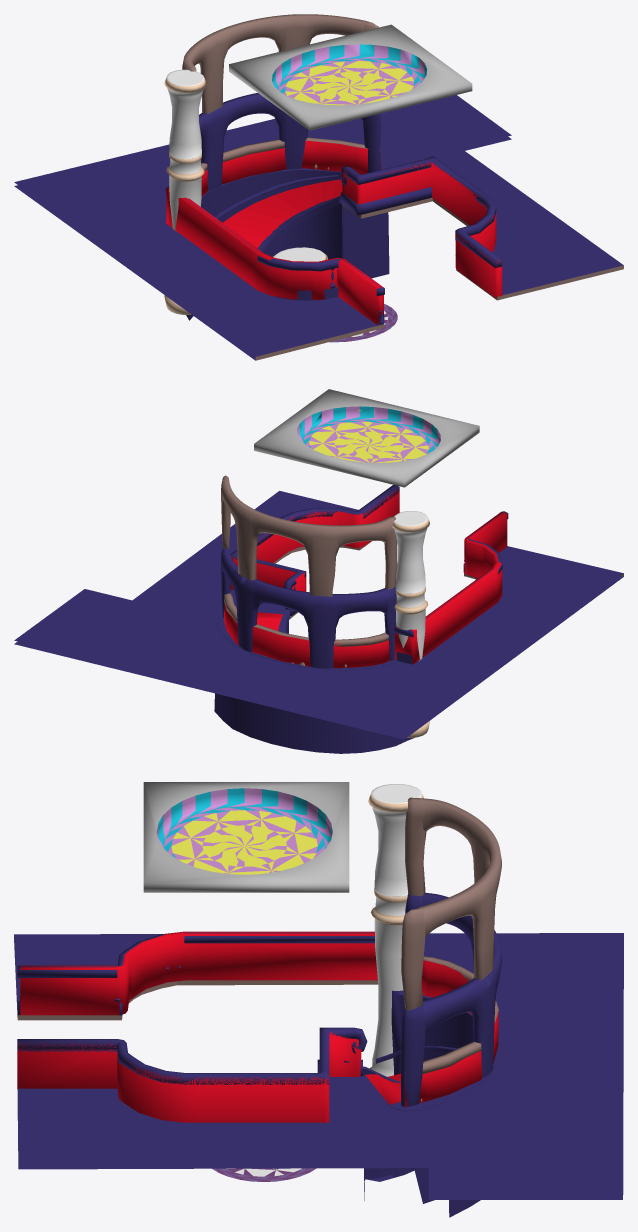
File: HALL DEFINITIF (LE SEUL).fbx
The picture shows the model from 3 angles, top to bottom: view 1: azimuth 30°, elevation 25°; view 2: azimuth 150°, elevation 25°; view 3: azimuth 270°, elevation 25°; orthographic projection. The views are drawn at different scales.
Parts seen in each view (by area): view 1: pisodos_061, Plane_002, Cylinder, pisodos_up.002, Plane, invisible right, pisodos_011.002, polo, barranda D, invisible center, rampa invisible, pisodos_008.001 (+6 smaller); view 2: pisodos_061, pisodos_011.002, polo, Plane, Cylinder, Plane_002, pisodos_up.002, invisible right, invisible center, pisodos_061.001, pisodos_008.001, barranda D (+3 smaller); view 3: pisodos_061, pisodos_up.002, invisible right, Cylinder, Plane, pisodos_011.002, polo, barranda D, Plane_002, pisodos_008, pisodos_008.001, pisodos_061.001 (+5 smaller).
Boxes of the visible parts, x1,y1,x2,y2 form: pisodos_061: [14, 95, 623, 356]; Plane_002: [186, 168, 389, 320]; Cylinder: [272, 44, 427, 342]; pisodos_up.002: [166, 187, 383, 324]; Plane: [229, 24, 472, 130]; invisible right: [342, 162, 502, 297]; pisodos_011.002: [182, 14, 378, 113]; polo: [192, 93, 380, 191]; barranda D: [340, 156, 502, 267]; invisible center: [201, 140, 380, 196]; rampa invisible: [223, 179, 342, 248]; pisodos_008.001: [164, 69, 206, 159]; pisodos_061: [14, 491, 623, 735]; pisodos_011.002: [221, 475, 397, 596]; polo: [221, 548, 396, 668]; Plane: [254, 389, 479, 487]; Cylinder: [297, 406, 440, 462]; Plane_002: [213, 609, 414, 753]; pisodos_up.002: [395, 512, 507, 663]; invisible right: [230, 488, 399, 591]; invisible center: [224, 602, 389, 668]; pisodos_061.001: [14, 576, 623, 739]; pisodos_008.001: [392, 511, 429, 593]; barranda D: [230, 485, 399, 615]; pisodos_061: [14, 933, 623, 1194]; pisodos_up.002: [20, 931, 377, 1015]; invisible right: [17, 1032, 361, 1122]; Cylinder: [156, 788, 332, 1181]; Plane: [143, 782, 349, 892]; pisodos_011.002: [401, 797, 501, 1010]; polo: [401, 893, 501, 1106]; barranda D: [17, 1027, 367, 1094]; Plane_002: [363, 990, 501, 1217]; pisodos_008: [369, 888, 407, 1076]; pisodos_008.001: [368, 784, 423, 896]; pisodos_061.001: [18, 984, 623, 1199].
Size of what is drawn, in the model's own units: 3451 by 2042 by 3395.
